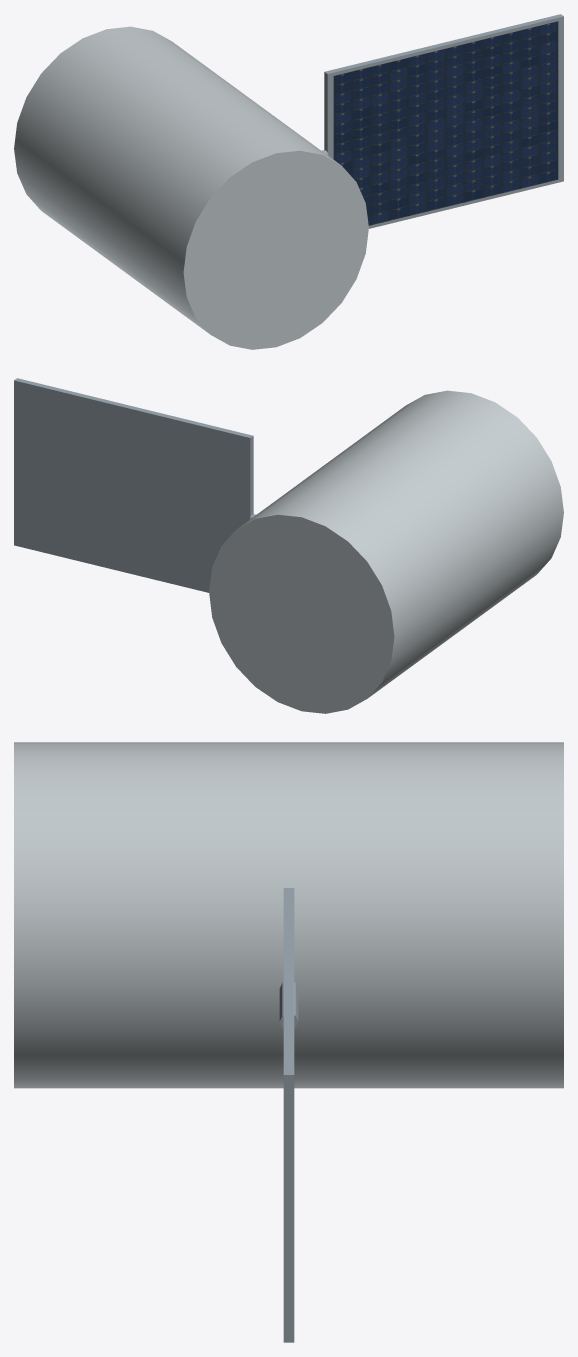
Rendered from ref-leostar-2-27651.glb.
The picture shows the model from 3 angles, top to bottom: view 1: azimuth 30°, elevation 25°; view 2: azimuth 150°, elevation 25°; view 3: azimuth 270°, elevation 25°; orthographic projection. The views are drawn at different scales.
Parts seen in each view (by area): view 1: Spacecraft body, Photovoltaic laminates, Array frame; view 2: Spacecraft body, Array frame; view 3: Spacecraft body, Array frame.
Part boxes in pixels (x1,y1,x2,y2): Spacecraft body: (14, 26, 368, 349); Photovoltaic laminates: (333, 21, 558, 225); Array frame: (324, 14, 563, 228); Spacecraft body: (209, 390, 563, 713); Array frame: (14, 378, 253, 592); Spacecraft body: (14, 742, 563, 1088); Array frame: (283, 888, 294, 1342).
Size of the model in its own units: 3 by 1.2 by 1.9.
3 materials, 1 textured.
